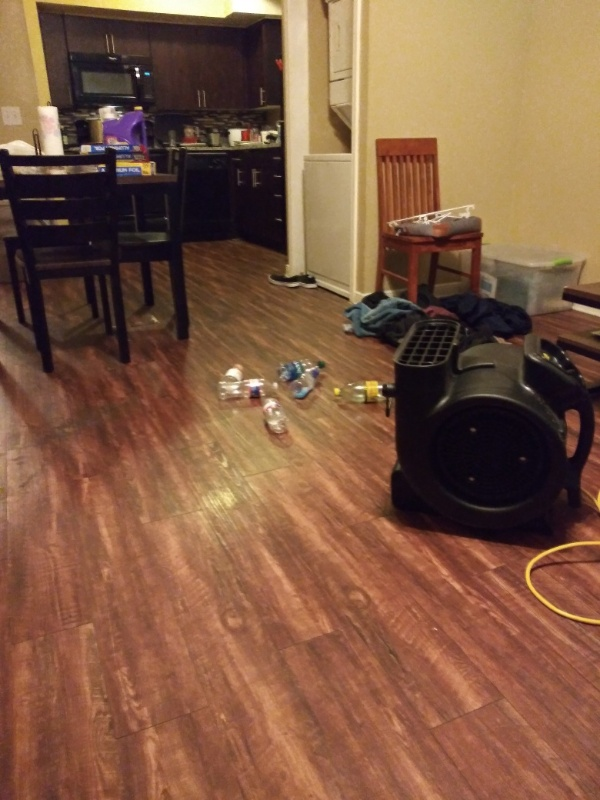bottle: (214, 374, 282, 401), (330, 378, 394, 405), (282, 368, 334, 399), (257, 394, 292, 437), (273, 355, 327, 380), (216, 359, 246, 388)
